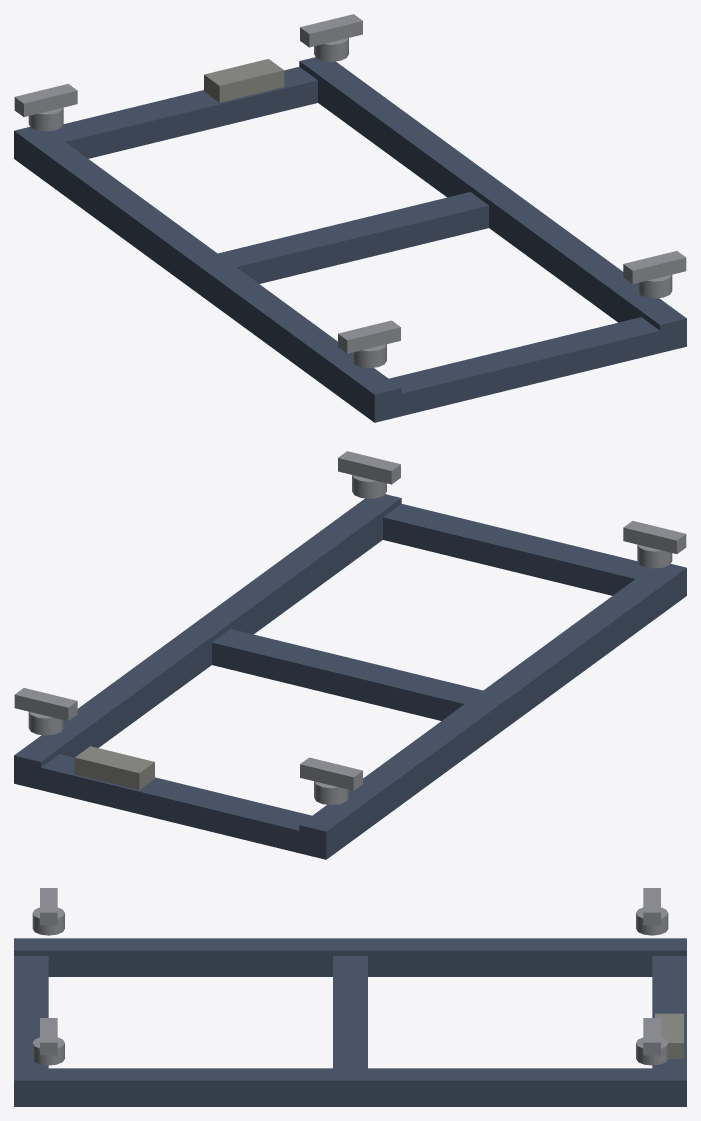
The model's file is pb8_rail_mount.obj.
3 views of the same model, one above another, from view 1: azimuth 30°, elevation 25°; view 2: azimuth 150°, elevation 25°; view 3: azimuth 270°, elevation 25° (orthographic). The views are drawn at different scales.
Visible parts, largest first — view 1: pb8_rail_mount; view 2: pb8_rail_mount; view 3: pb8_rail_mount.
Boxes of the visible parts, <box> form: pb8_rail_mount: <box>14,14,686,422</box>; pb8_rail_mount: <box>14,451,686,859</box>; pb8_rail_mount: <box>14,888,686,1106</box>.
Bounding box in the file's own units: 0.63 × 0.134 × 1.16.
